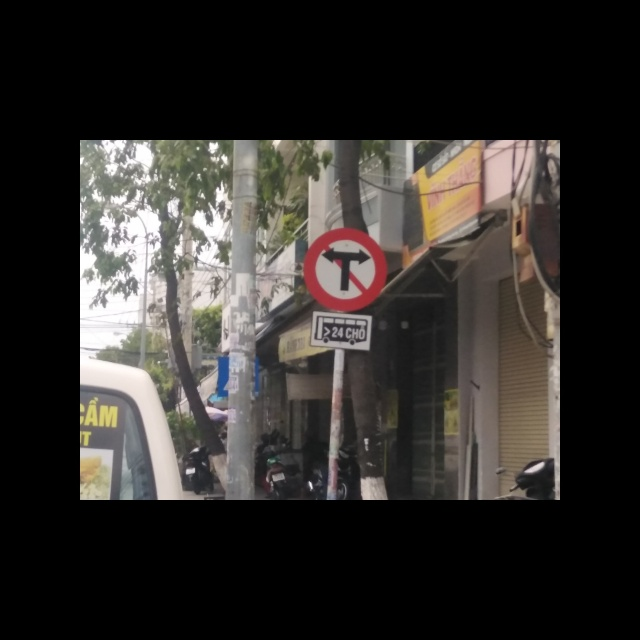Cấm rẽ trái và rẽ phải: (302, 226, 387, 311)
